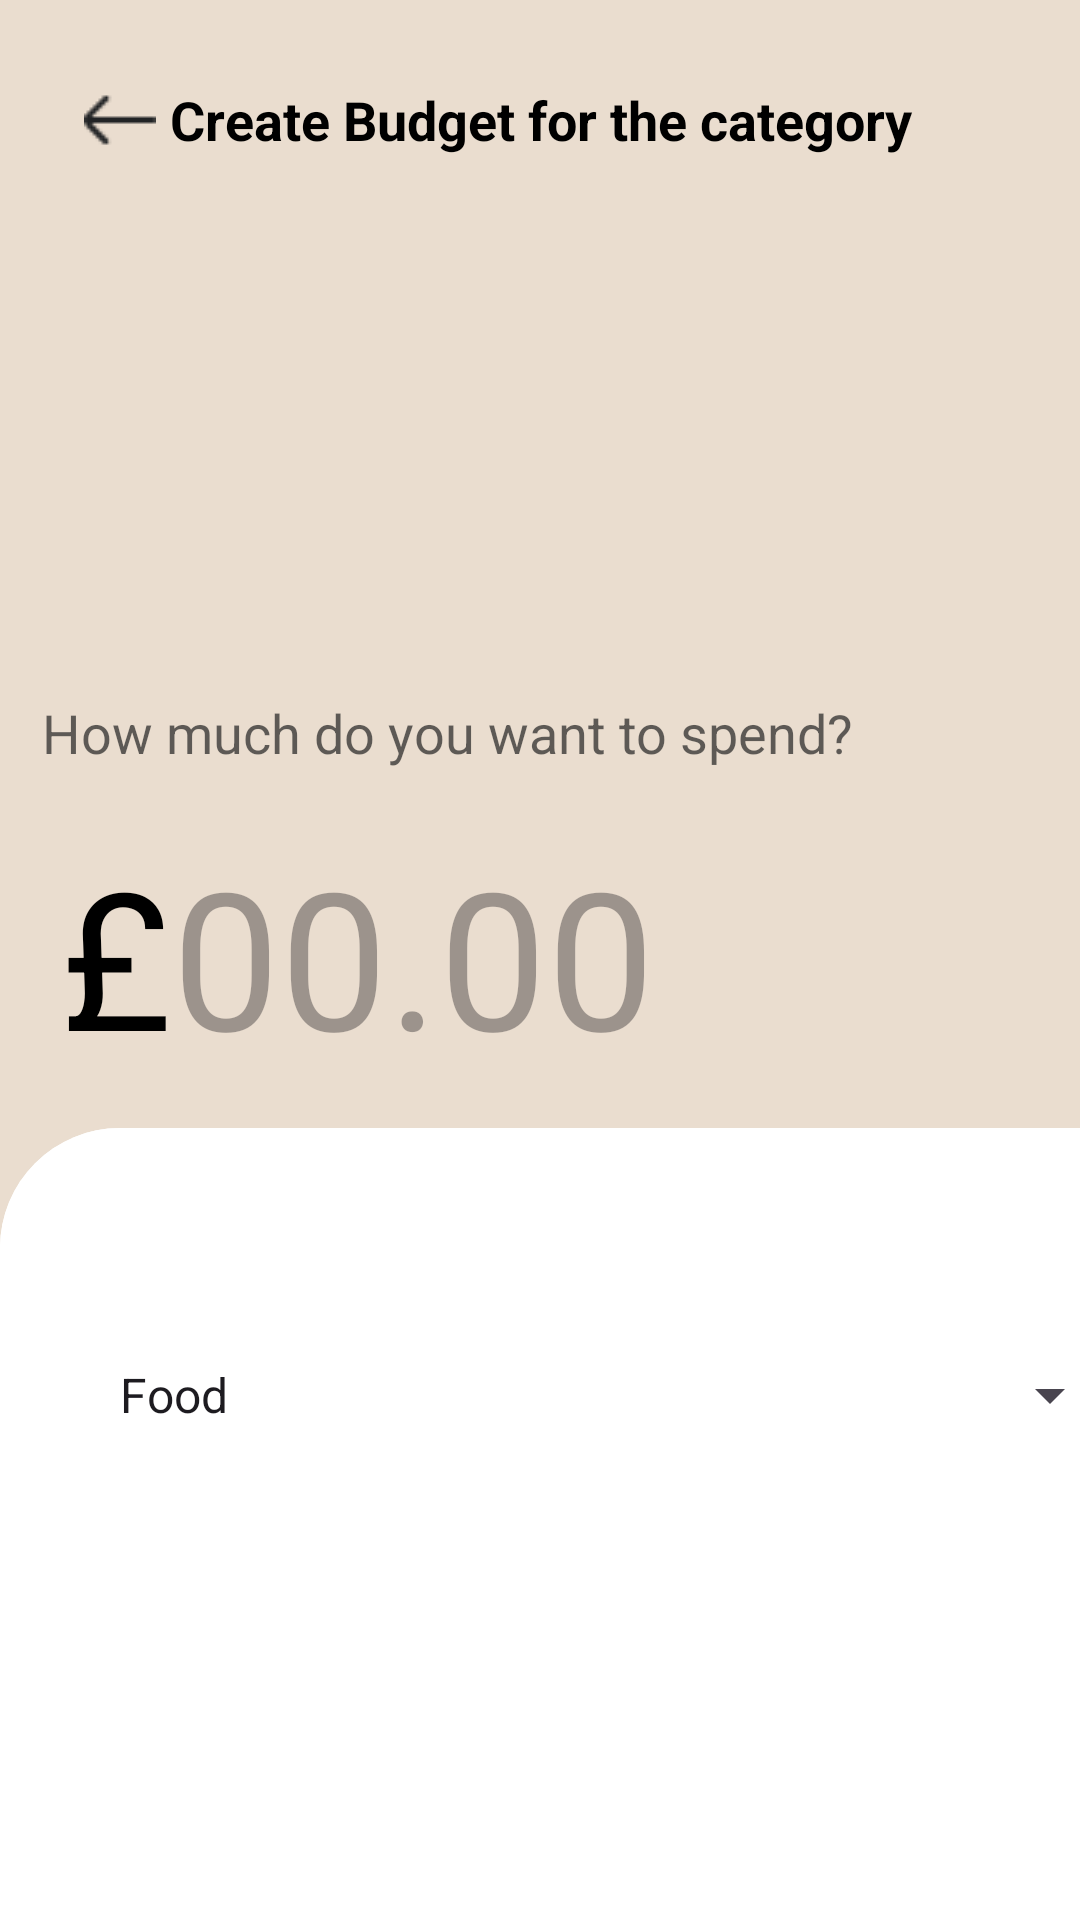

Screen size 1080x1920. Icon name, then its center in pixels as [x,y]:
back arrow: [120,120]
